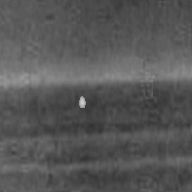Target: (77, 94, 87, 109)
